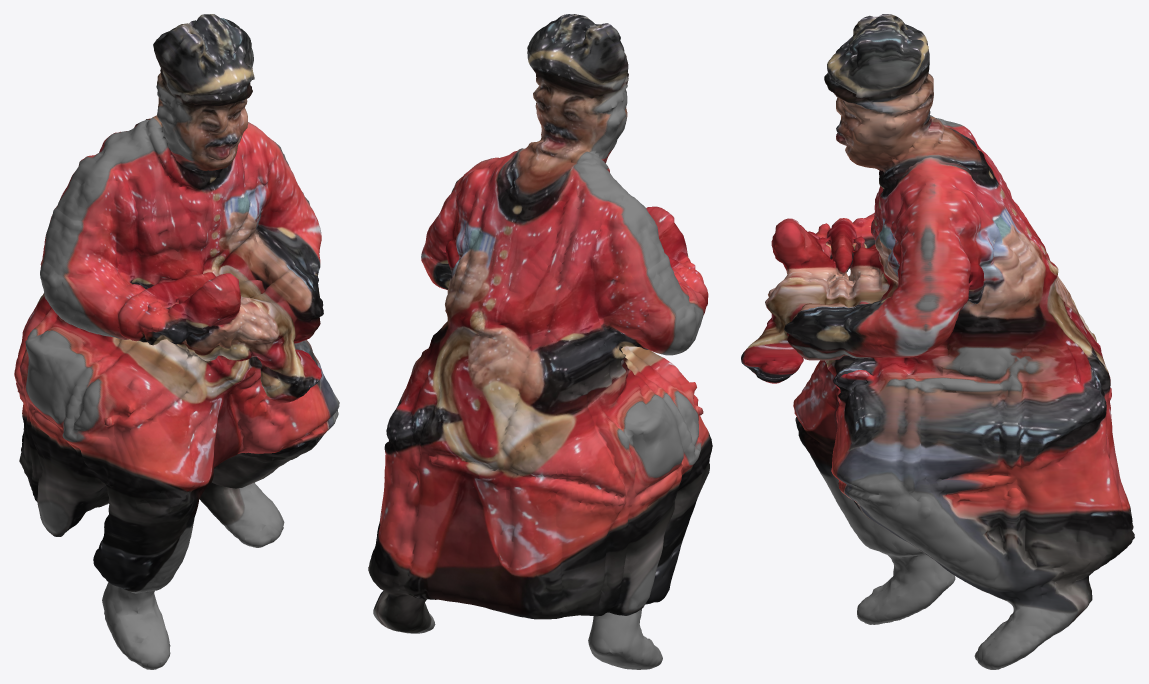
File: antique_past_glory_photoreal.glb
3 renders of one model, left to right at view 1: azimuth 30°, elevation 25°; view 2: azimuth 150°, elevation 25°; view 3: azimuth 270°, elevation 25°, orthographic.
Visible parts, largest first — view 1: RoyalDoulton_PastGlory_Master; view 2: RoyalDoulton_PastGlory_Master; view 3: RoyalDoulton_PastGlory_Master.
Boxes of the visible parts, <box> form: RoyalDoulton_PastGlory_Master: <box>14,14,339,669</box>; RoyalDoulton_PastGlory_Master: <box>368,14,712,669</box>; RoyalDoulton_PastGlory_Master: <box>741,14,1134,669</box>.
Size of the model in its own units: 0.0877 by 0.195 by 0.1102.
1 material, 1 textured.
